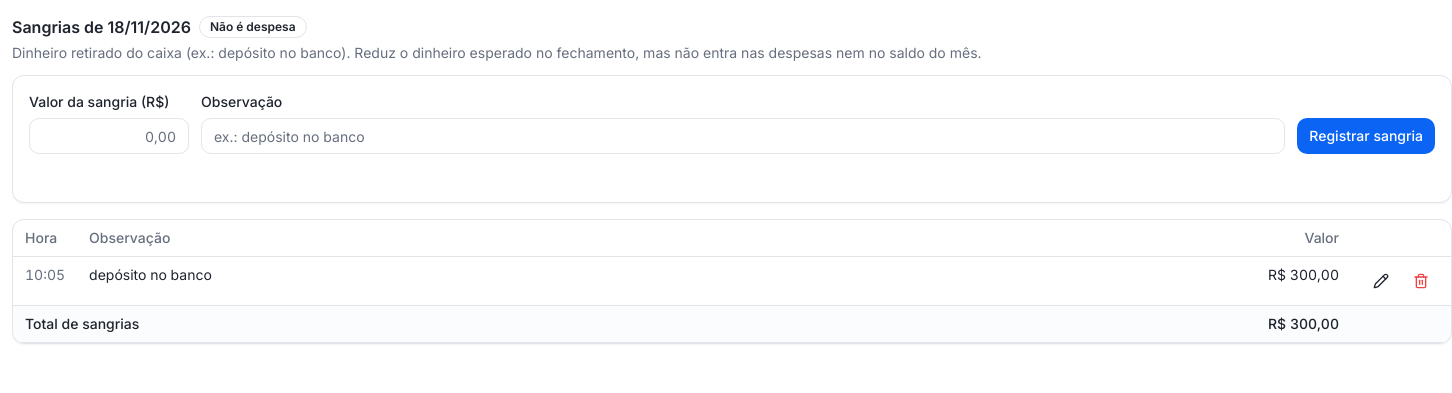
Test: FR-07: sangrias on the Despesas page › FR-07: Esc cancels the edit without saving
Expected: the text "Total de sangrias" is shown, [13,305,850,342]
In the field labelled "Valor da sangria (R$)": (109, 136) [29,118,189,154], type "12"
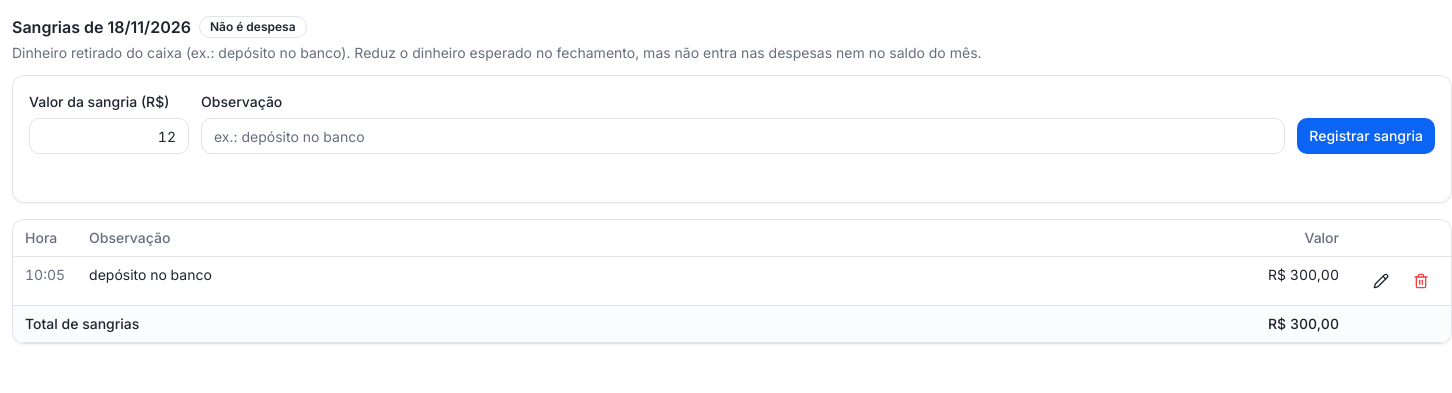
Click the button named "Editar sangria": (1381, 280) [1363,264,1399,296]
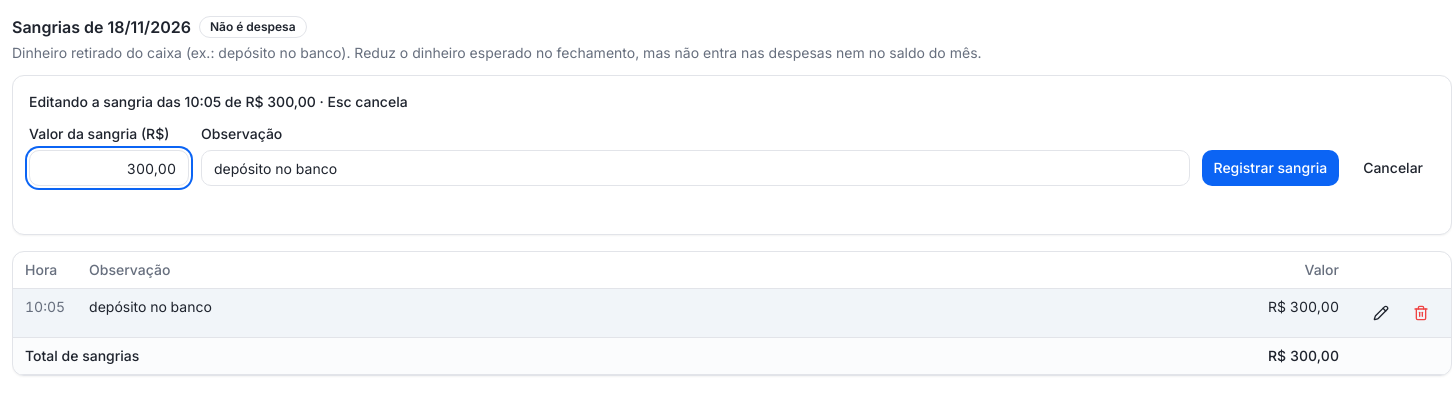
Press Escape in the field labelled "Valor da sangria (R$)", box [29,150,189,186]
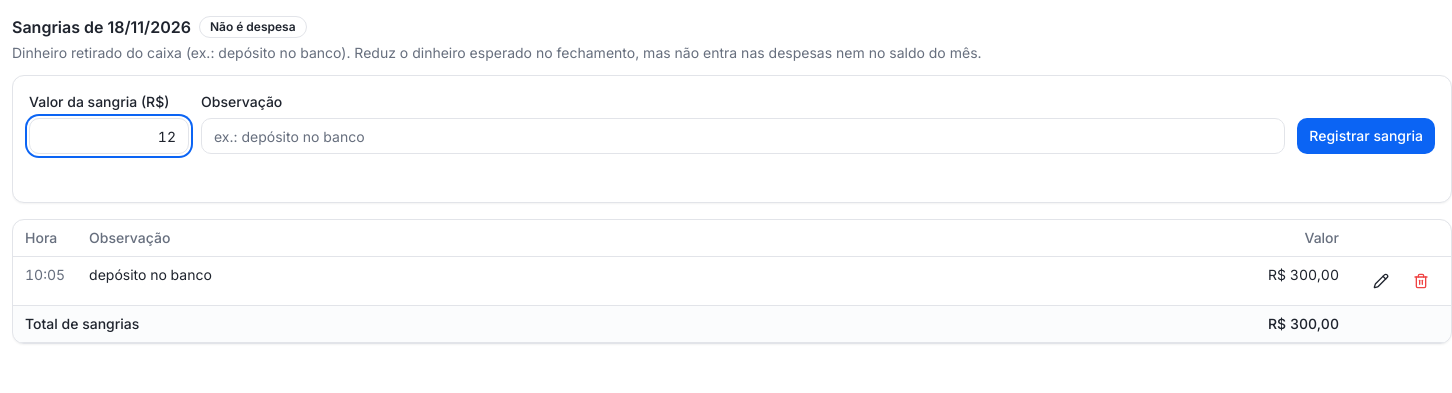
Result: the form named "Nova sangria" is shown at [29,92,1435,186]
